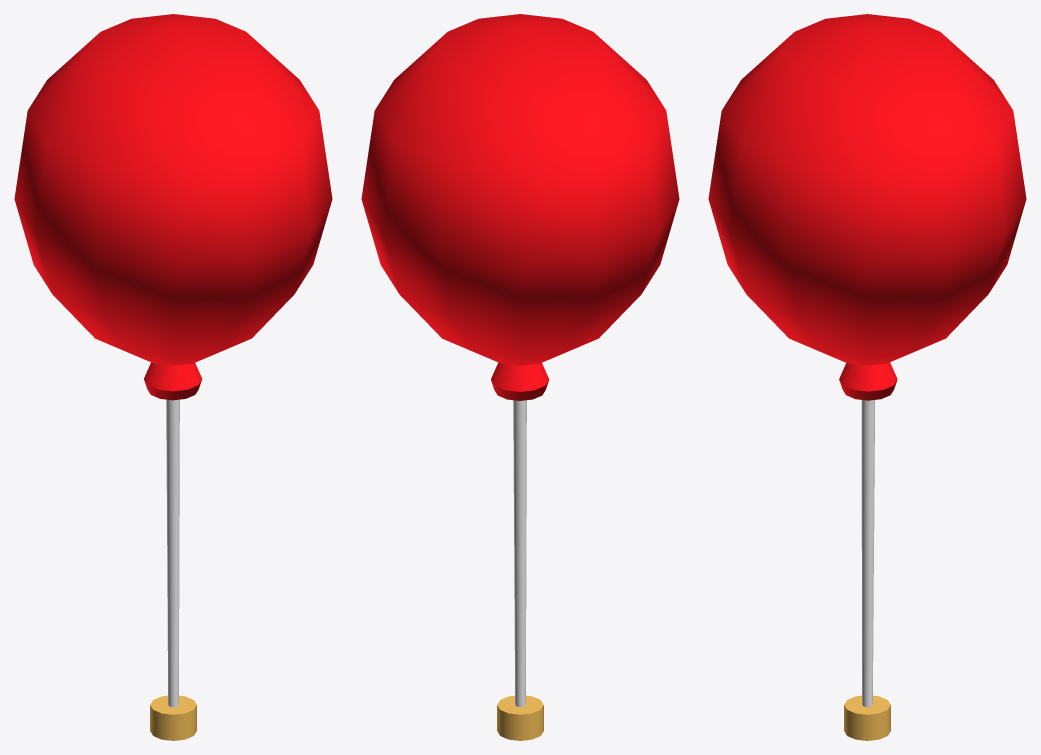
The model's file is Pungsun3-1.fbx.
The picture shows the model from 3 angles, left to right: view 1: azimuth 30°, elevation 25°; view 2: azimuth 150°, elevation 25°; view 3: azimuth 270°, elevation 25°; orthographic projection.
Visible parts, largest first — view 1: Pungsun3-1; view 2: Pungsun3-1; view 3: Pungsun3-1.
Part boxes in pixels (x1,y1,x2,y2): Pungsun3-1: (14, 14, 332, 740); Pungsun3-1: (361, 14, 679, 740); Pungsun3-1: (708, 14, 1026, 740).
Size of the model in its own units: 0.1381 by 0.3374 by 0.1381.
